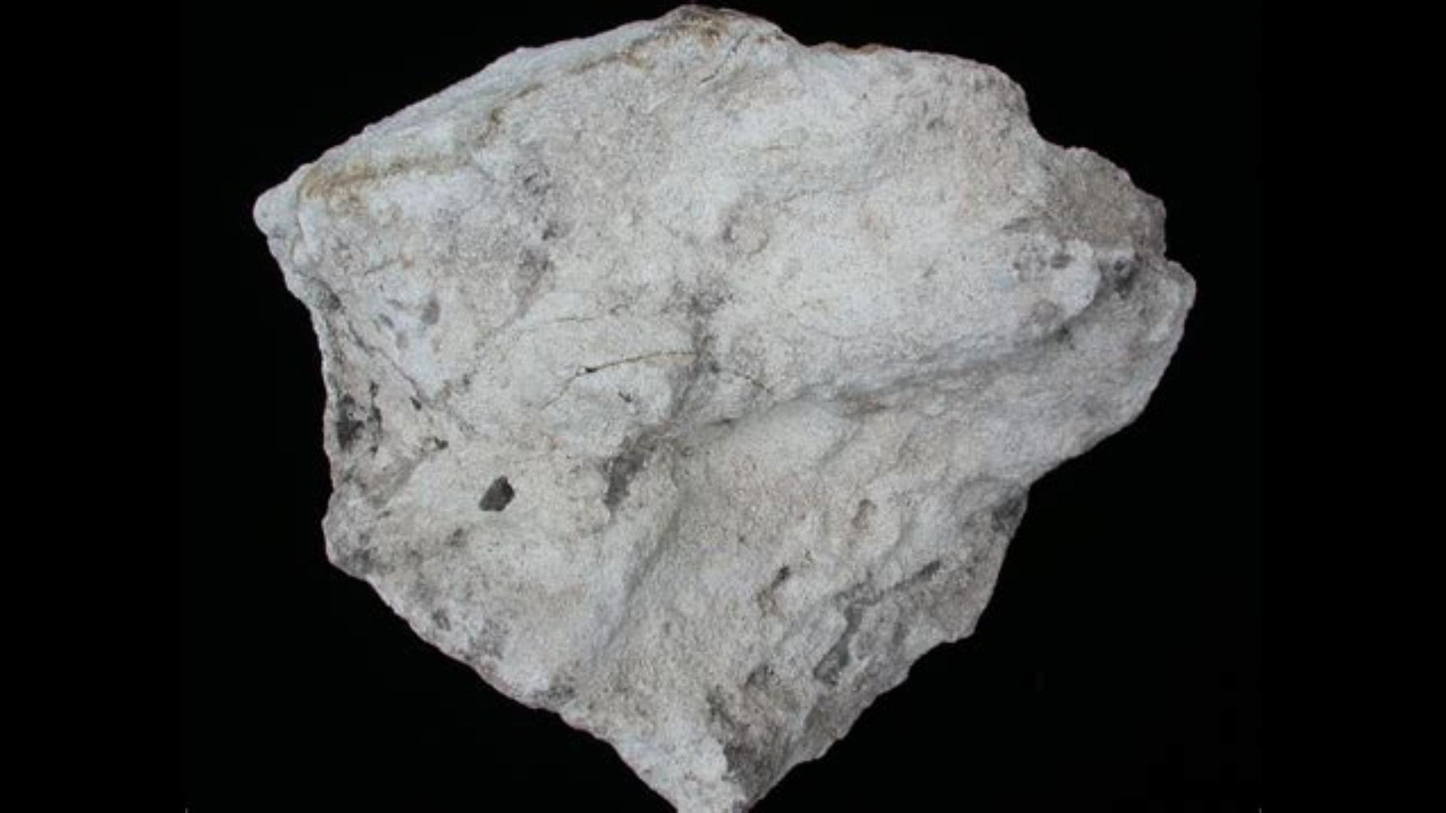rock: (255, 7, 1191, 811)
